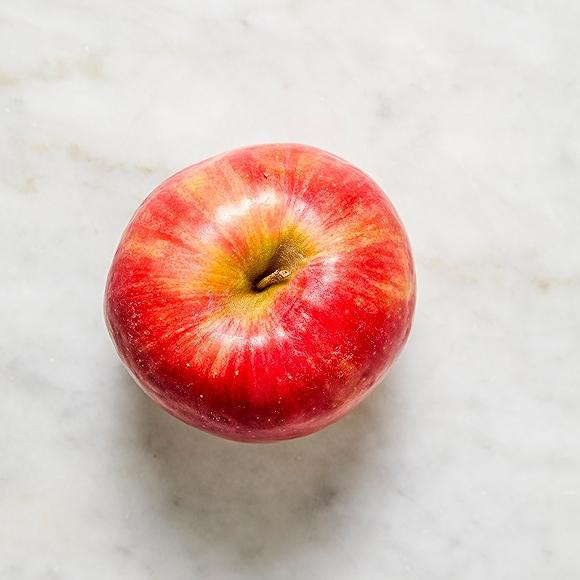apple: (105, 137, 415, 446)
